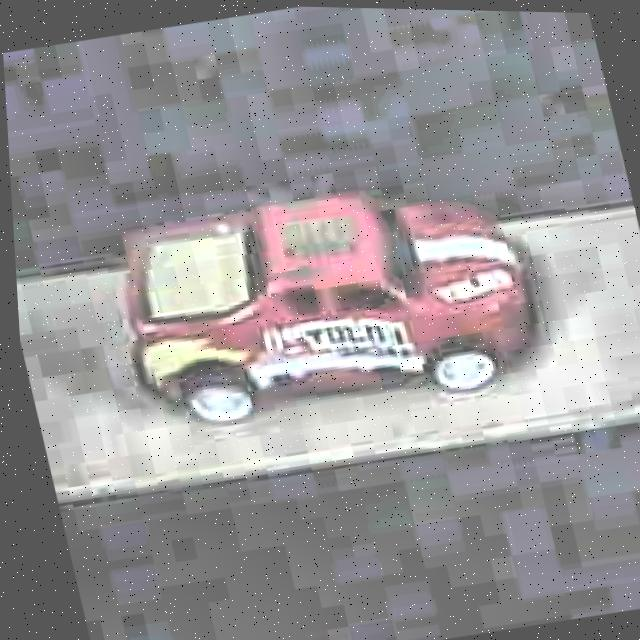car: (92, 156, 557, 449)
